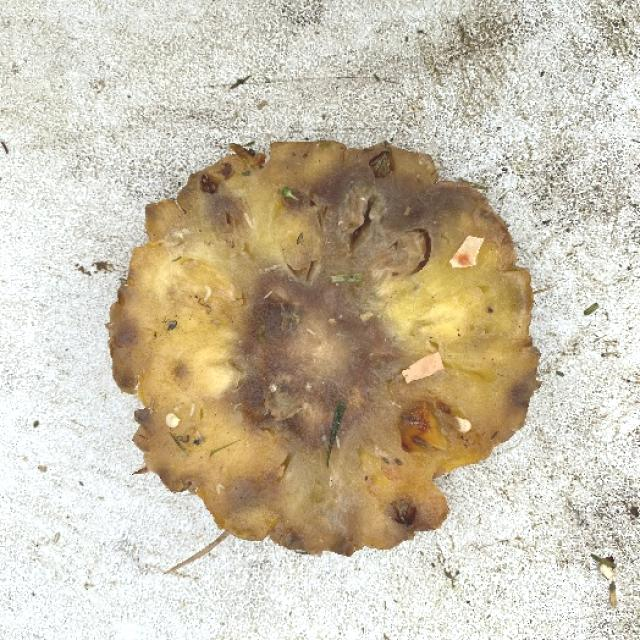organic: (88, 128, 512, 562)
